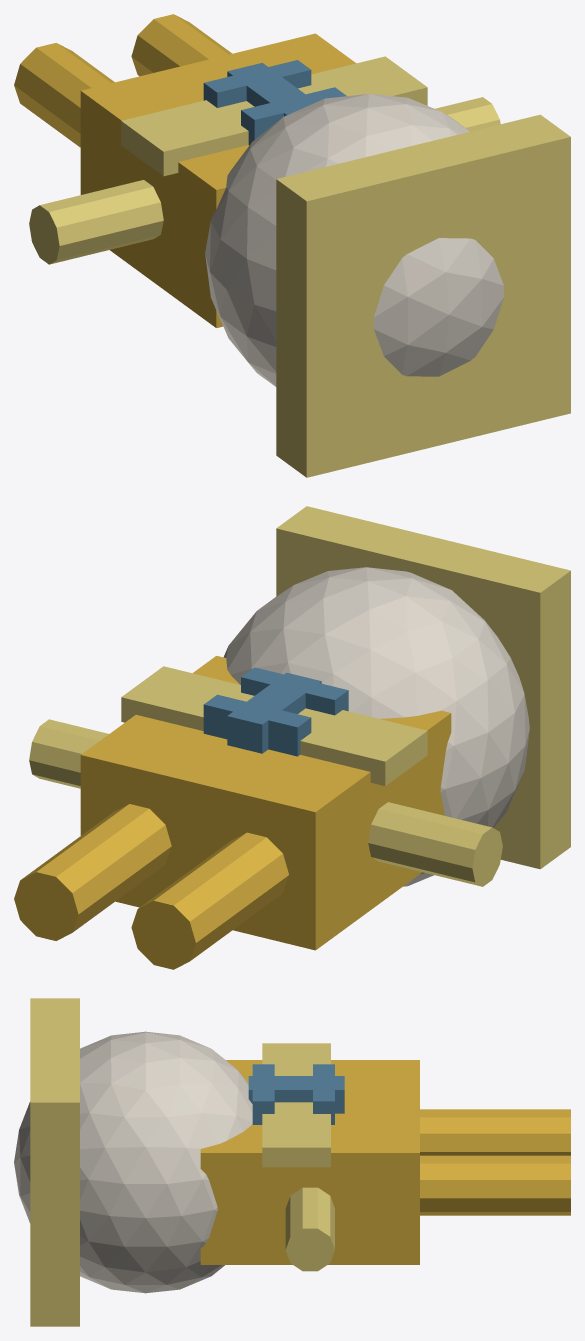
File: avatar-player.glb
3 renders of one model, top to bottom at view 1: azimuth 30°, elevation 25°; view 2: azimuth 150°, elevation 25°; view 3: azimuth 270°, elevation 25°, orthographic. The views are drawn at different scales.
Parts seen in each view (by area): view 1: world; view 2: world; view 3: world.
Boxes of the visible parts, <box> form: world: <box>14,14,570,477</box>; world: <box>14,506,570,969</box>; world: <box>14,998,570,1326</box>.
Bounding box in the file's own units: 1.51 × 0.96 × 2.03.
